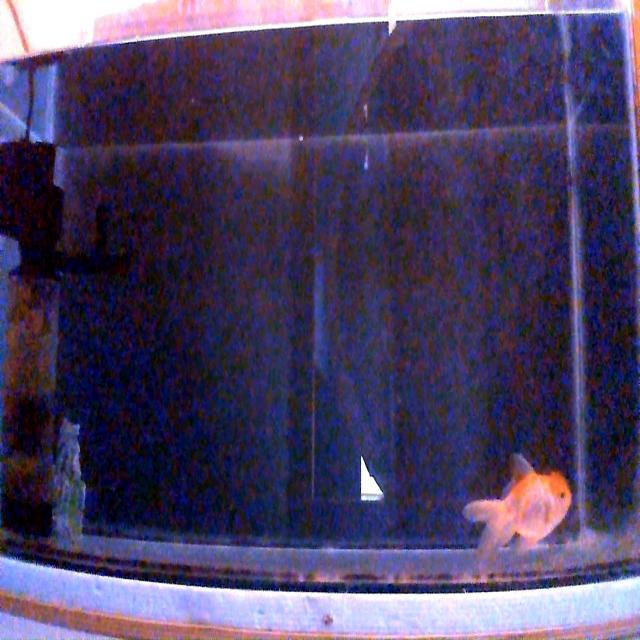fish: (462, 452, 572, 579)
